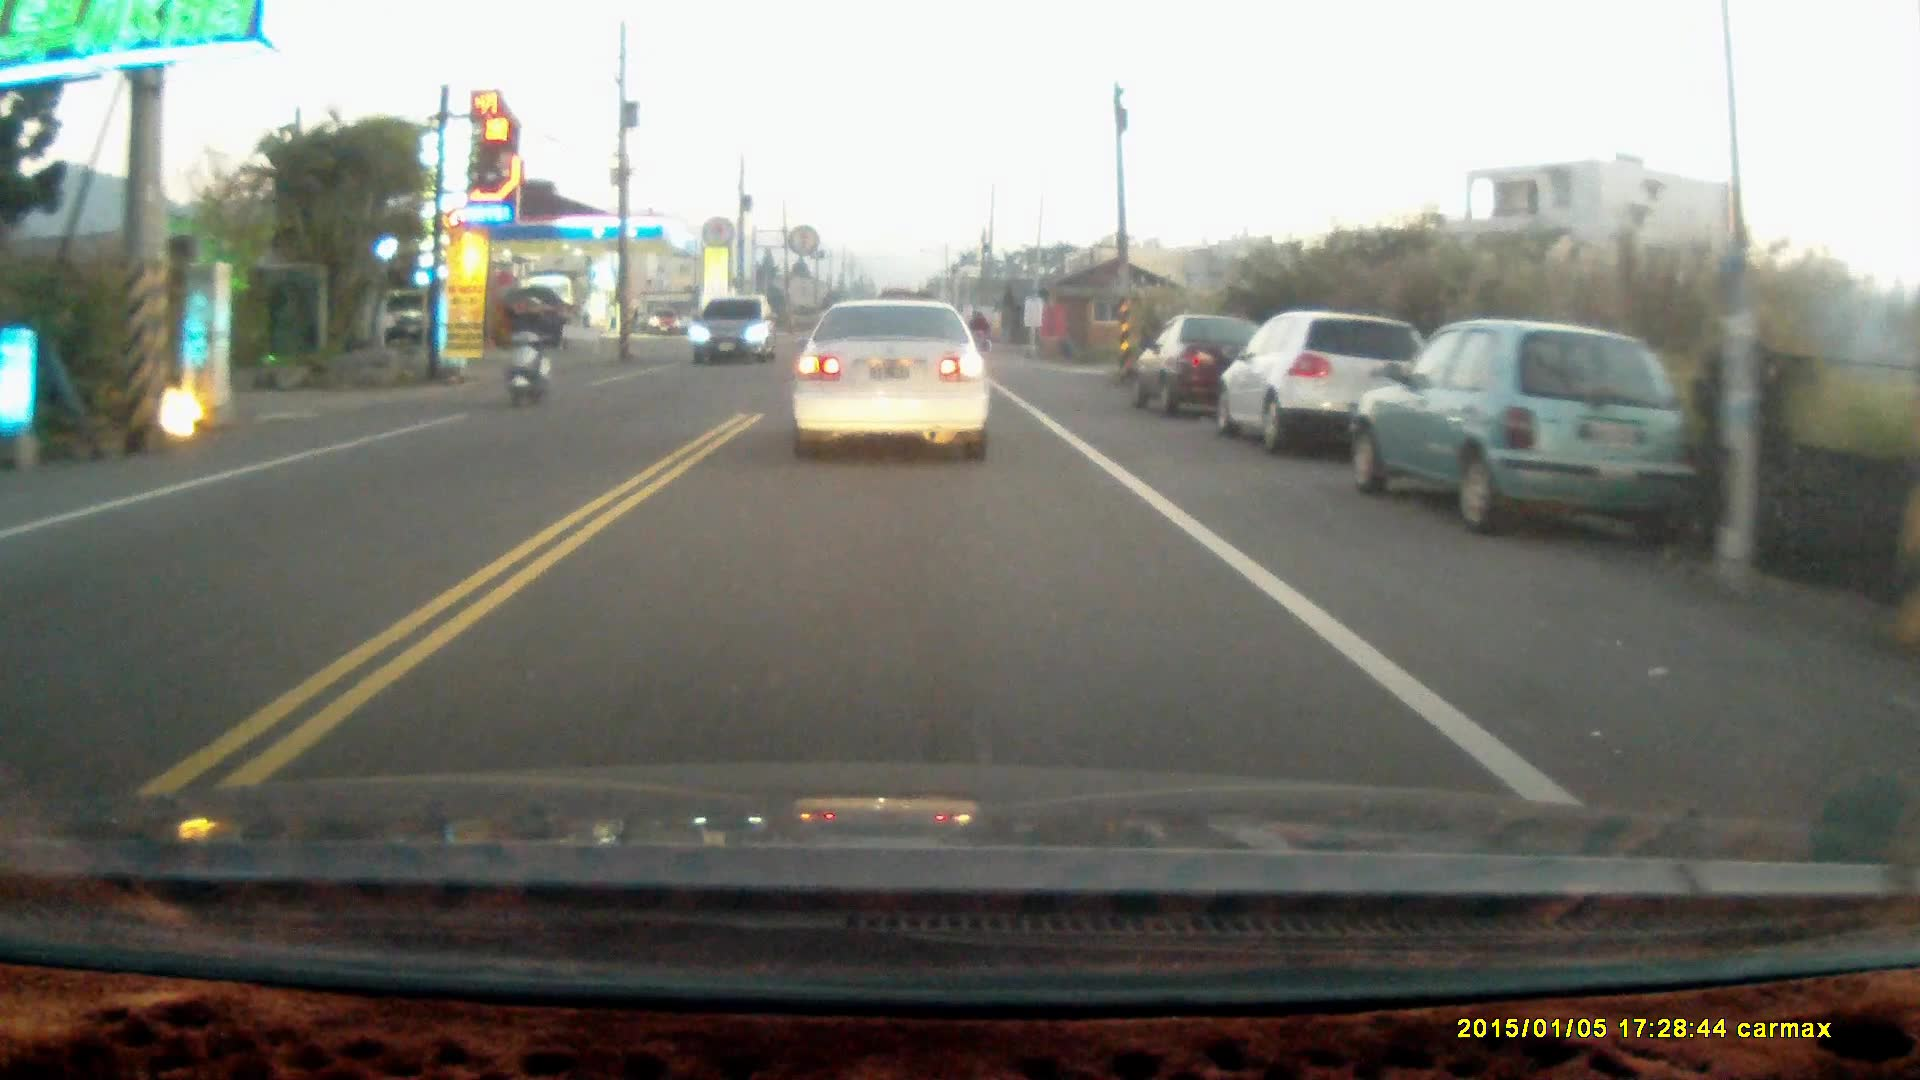rider: (501, 292, 551, 404)
vehicle: (1346, 319, 1708, 535), (790, 291, 995, 460), (1221, 311, 1426, 461), (1136, 312, 1269, 417), (691, 292, 780, 360)
